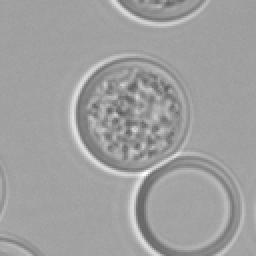picoshell: (70, 56, 190, 176), (128, 152, 242, 254), (110, 0, 208, 26), (0, 234, 34, 254), (0, 158, 8, 220)
